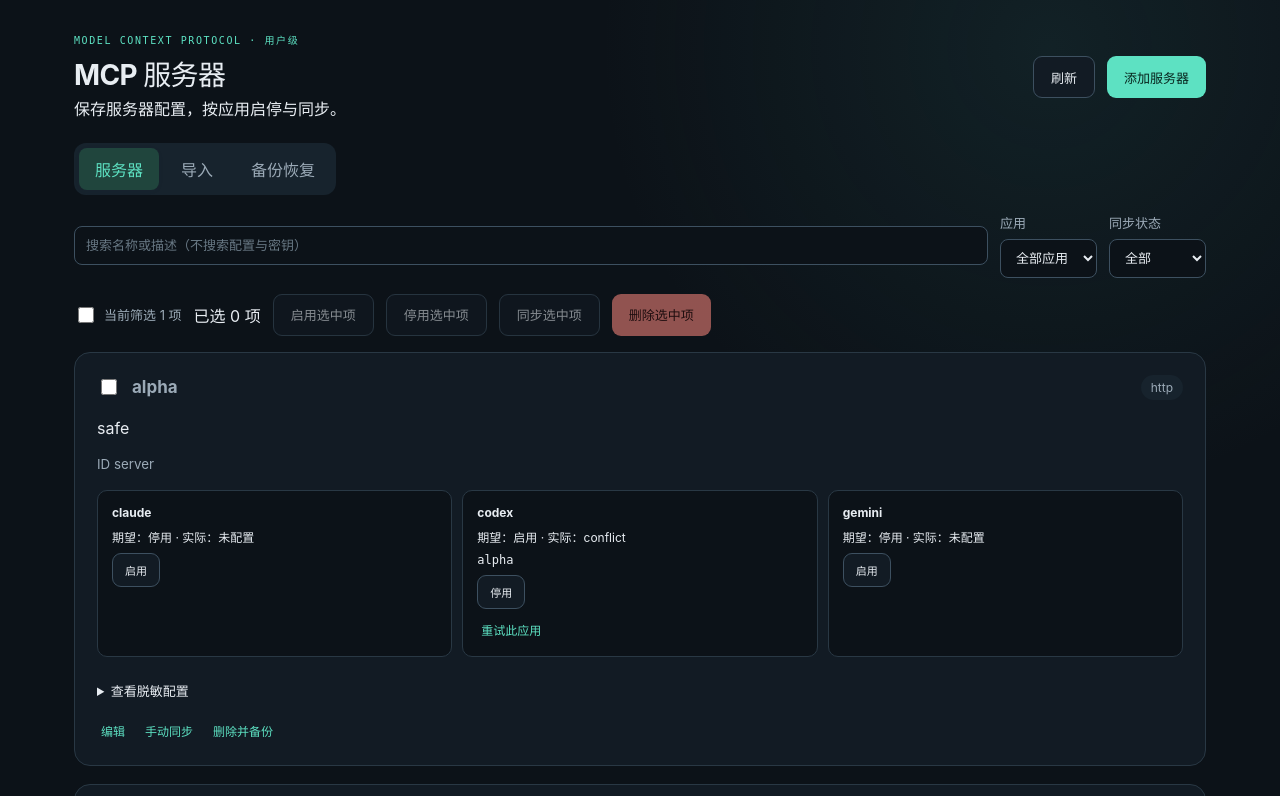
Test: MCP management view › shows backend conflicts without optimistic enablement
The width and height of the screenshot is (1280, 796).
Click the button "手动同步" at (169, 731), box [141, 718, 197, 743]
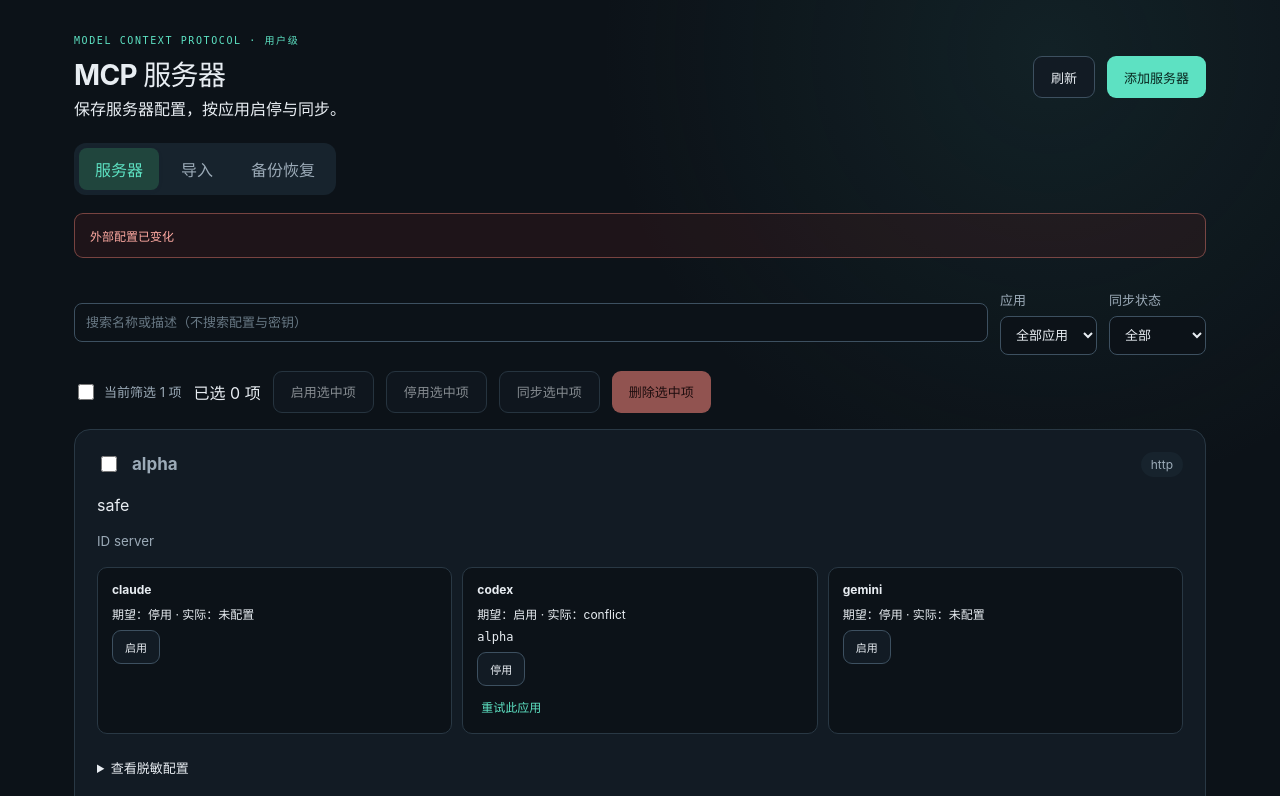
expect the text "conflict" is shown: met, box [477, 607, 626, 622]
expect the text "外部配置已变化" is shown: met, box [74, 213, 1206, 258]
